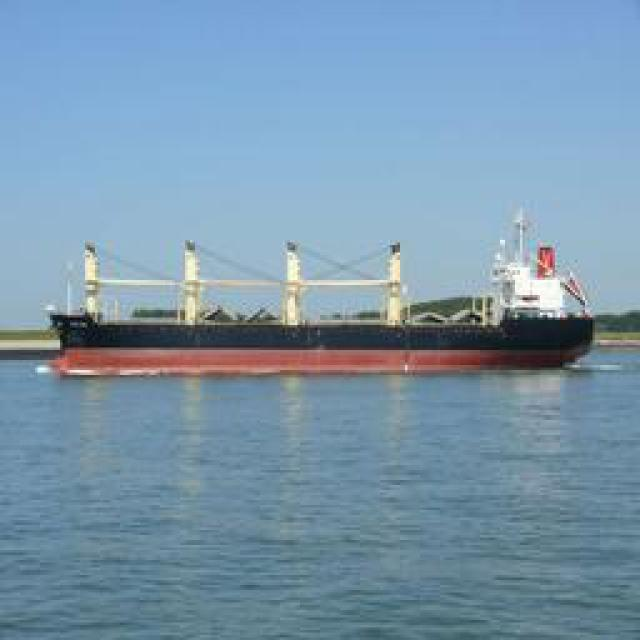Ship: (61, 221, 599, 371)
